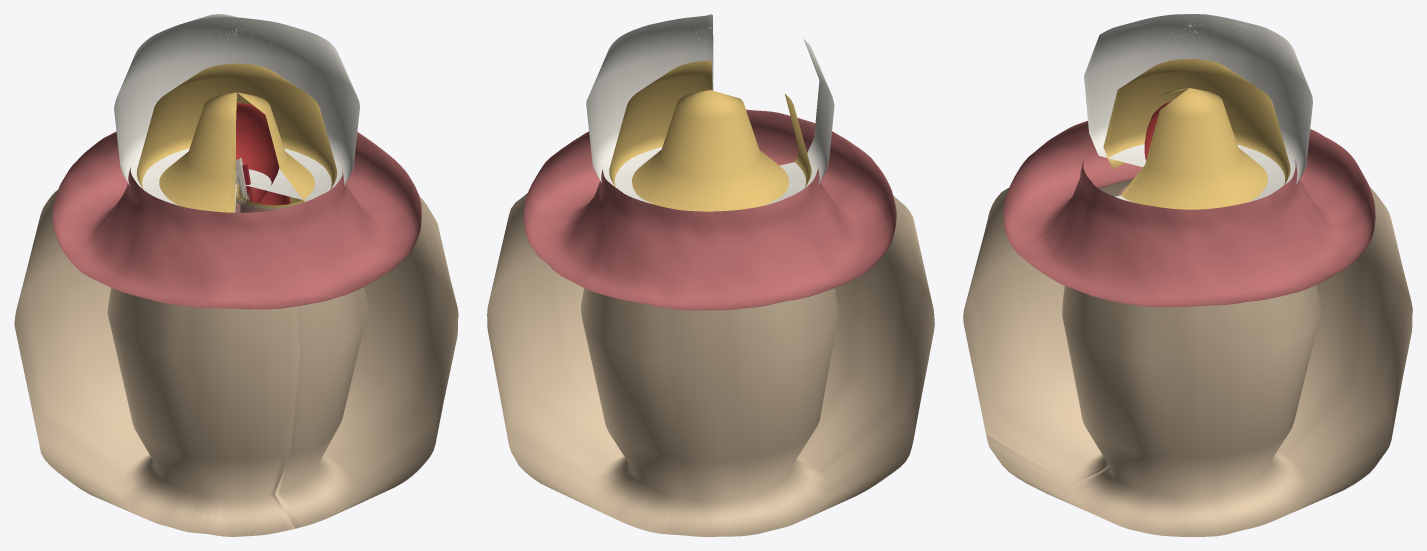
File: tooth.glb
3 renders of one model, left to right at view 1: azimuth 30°, elevation 25°; view 2: azimuth 150°, elevation 25°; view 3: azimuth 270°, elevation 25°, orthographic.
Visible parts, largest first — view 1: alveolar_bone, gingiva, enamel, dentin, pulp; view 2: alveolar_bone, gingiva, dentin, enamel; view 3: alveolar_bone, gingiva, dentin, enamel.
Part boxes in pixels (x1,y1,x2,y2): alveolar_bone: [14, 189, 458, 536]; gingiva: [52, 131, 421, 309]; enamel: [114, 14, 359, 212]; dentin: [136, 63, 337, 212]; pulp: [236, 103, 290, 205]; alveolar_bone: [487, 193, 934, 536]; gingiva: [524, 109, 896, 310]; dentin: [609, 60, 811, 211]; enamel: [586, 14, 834, 205]; alveolar_bone: [963, 179, 1412, 536]; gingiva: [1003, 121, 1375, 307]; dentin: [1103, 59, 1290, 209]; enamel: [1084, 14, 1312, 202].
Size of the model in its own units: 1.62 by 1.91 by 1.6.
